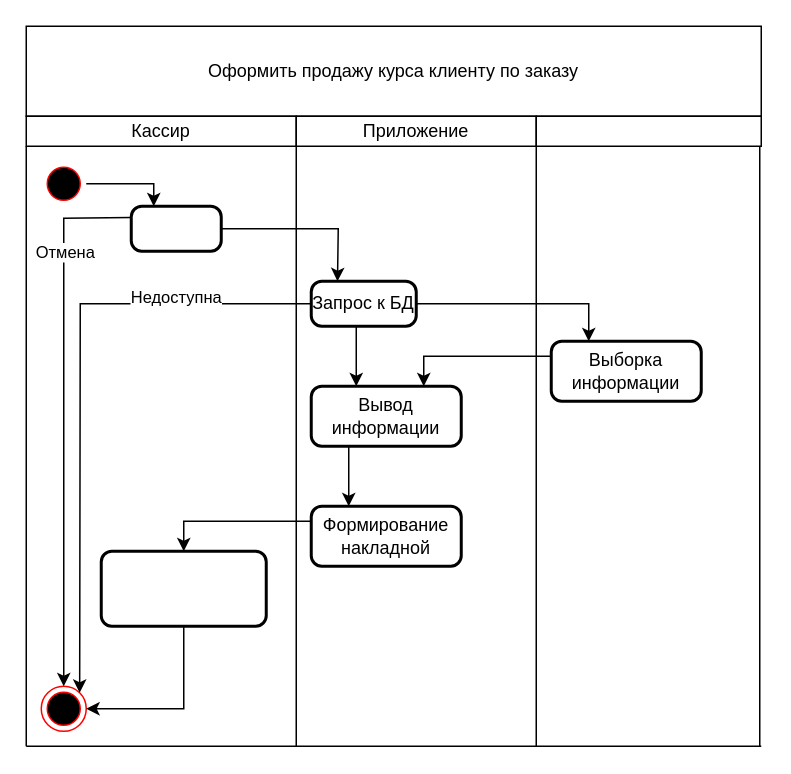
Some shapes in this 791 by 774 pixel diagram are drawn without their labels. Here are the shapes that lost their labels. From the top down, the box of each, then its label:
(535, 115, 761, 146): Сервер базы данных
(129, 204, 222, 252): Заявка
(99, 549, 267, 627): Получение данных и накладной
